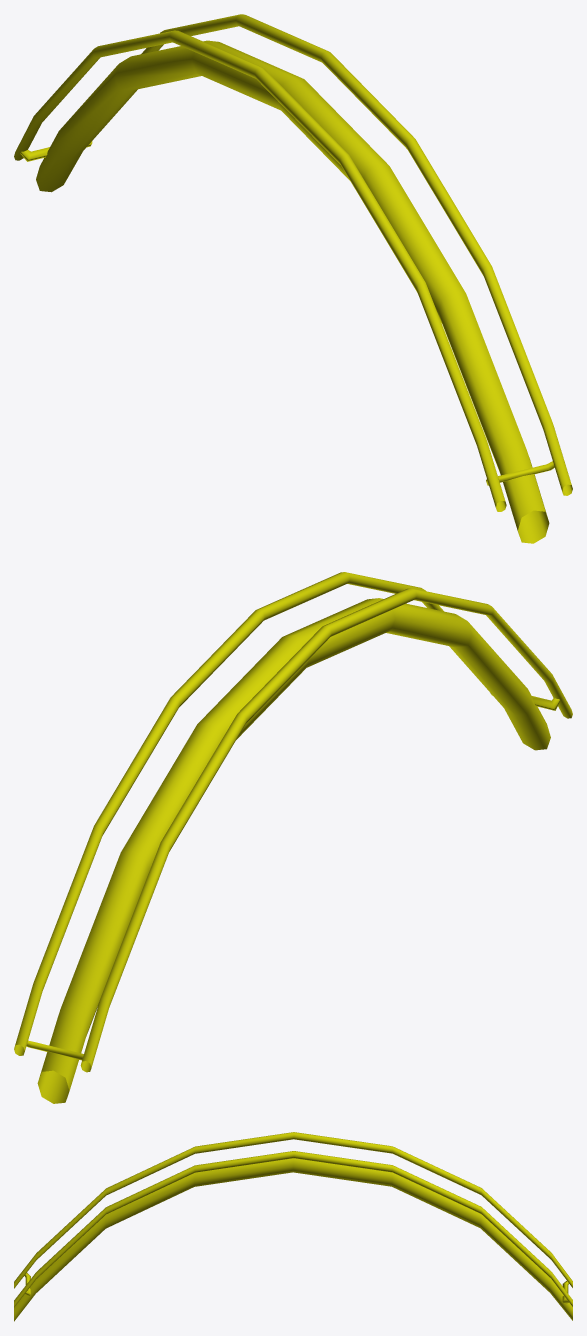
3 renders of one model, top to bottom at view 1: azimuth 30°, elevation 25°; view 2: azimuth 150°, elevation 25°; view 3: azimuth 270°, elevation 25°, orthographic. The views are drawn at different scales.
Visible parts, largest first — view 1: Mesh; view 2: Mesh; view 3: Mesh.
Boxes of the visible parts, x1=… form: Mesh: x1=14, y1=14, x2=572, y2=543; Mesh: x1=14, y1=572, x2=572, y2=1103; Mesh: x1=14, y1=1132, x2=572, y2=1321.
Bounding box in the file's own units: 67.36 × 252 × 712.
